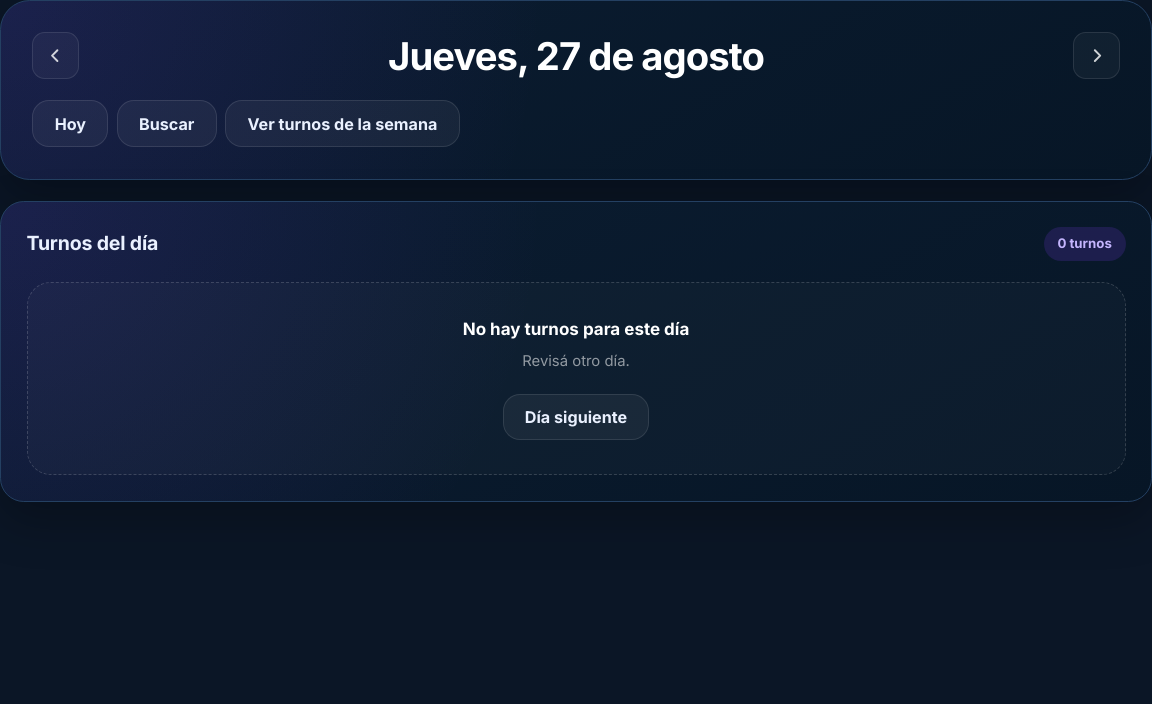
Scenario: buscador incremental de Agenda › mantiene los resultados compatibles mientras reconcilia cada prefijo
The width and height of the screenshot is (1152, 704).
Click the button "Buscar" at (167, 124), box [117,100,217,147]
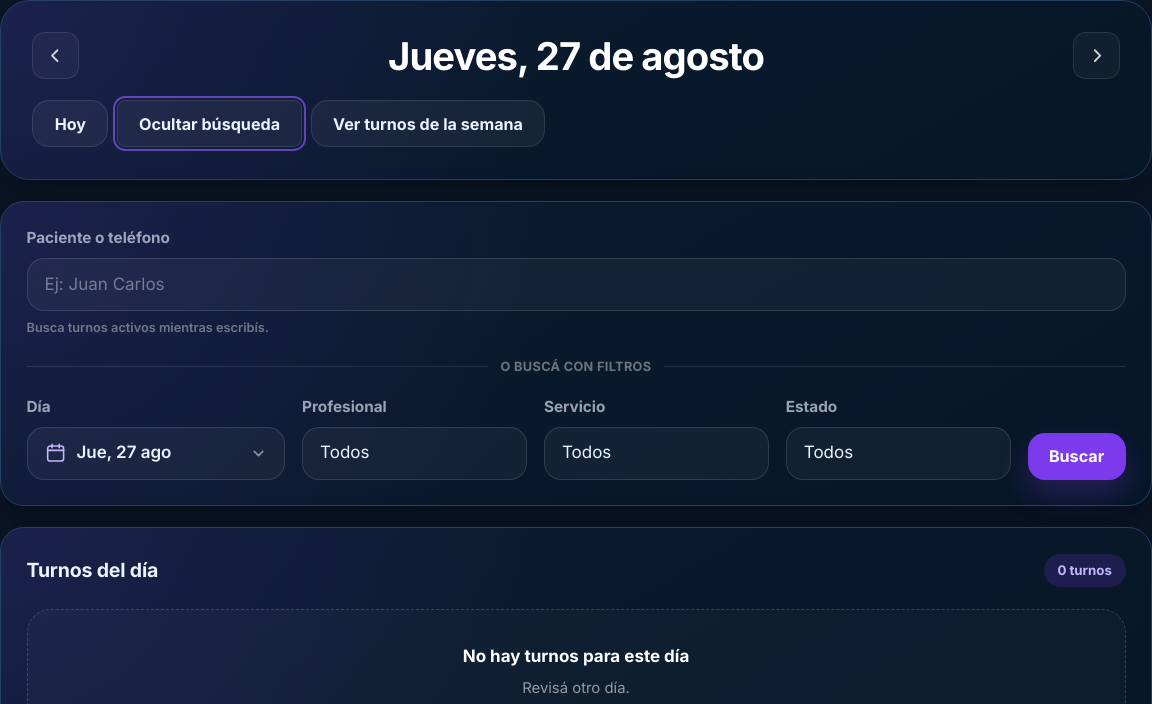
Type "fe" into the search field labelled "Paciente o teléfono" at (576, 284), box [26,258,1126,311]
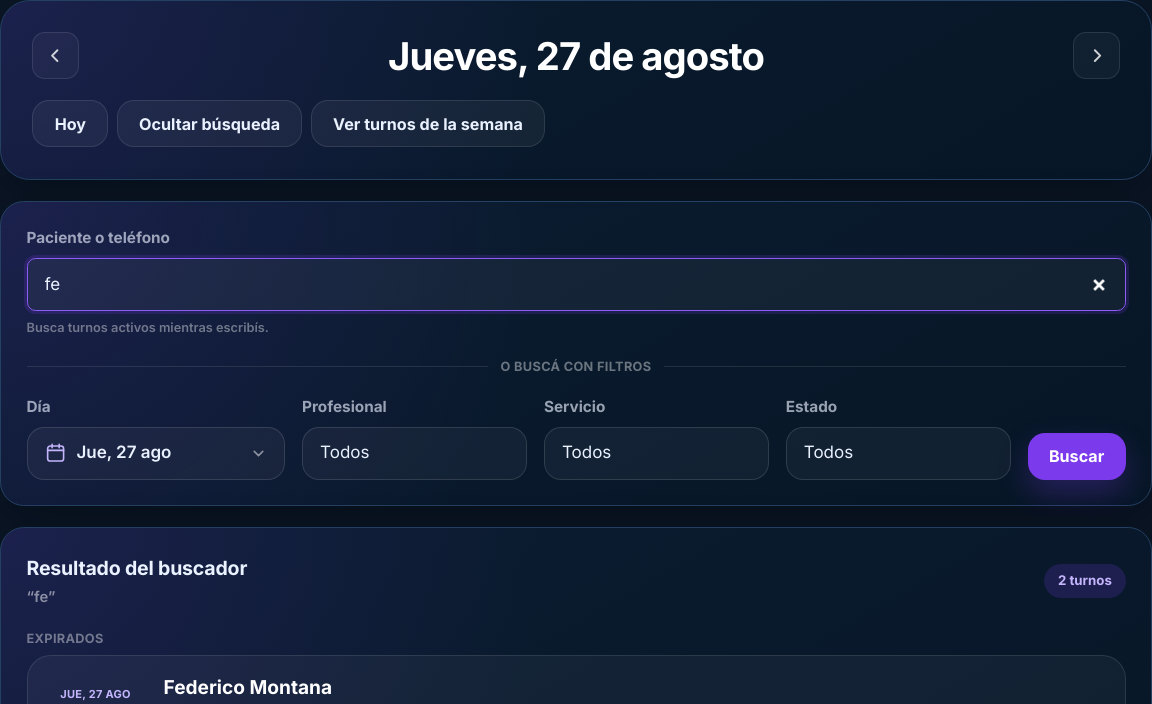
Check: the text "Federico Montana" is shown, box [164,675,332,699]
Type "r" into the search field labelled "Paciente o teléfono" at (576, 284), box [26,258,1126,311]
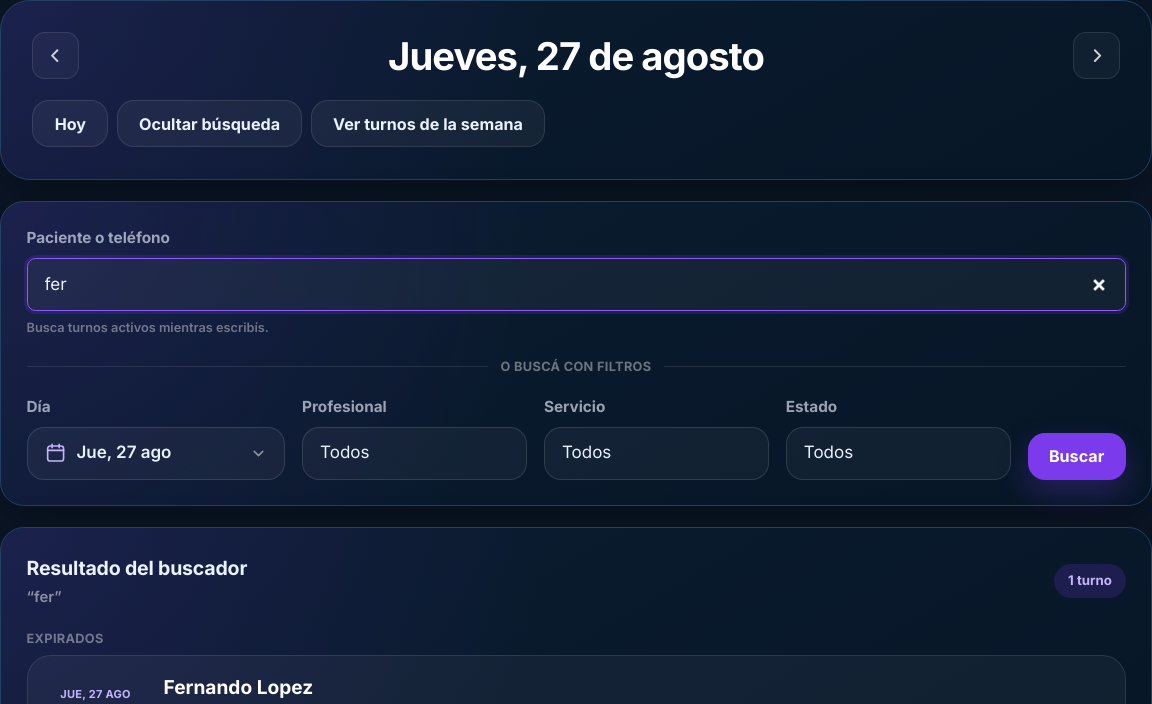
Check: the text "Fernando Lopez" is shown, box [164,675,313,699]
Check: the link "Federico Montana" is gone
